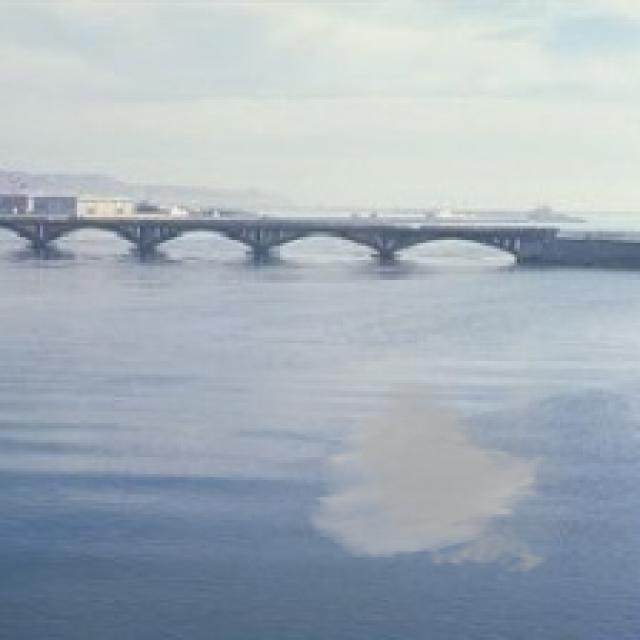smoke: (303, 377, 574, 580)
